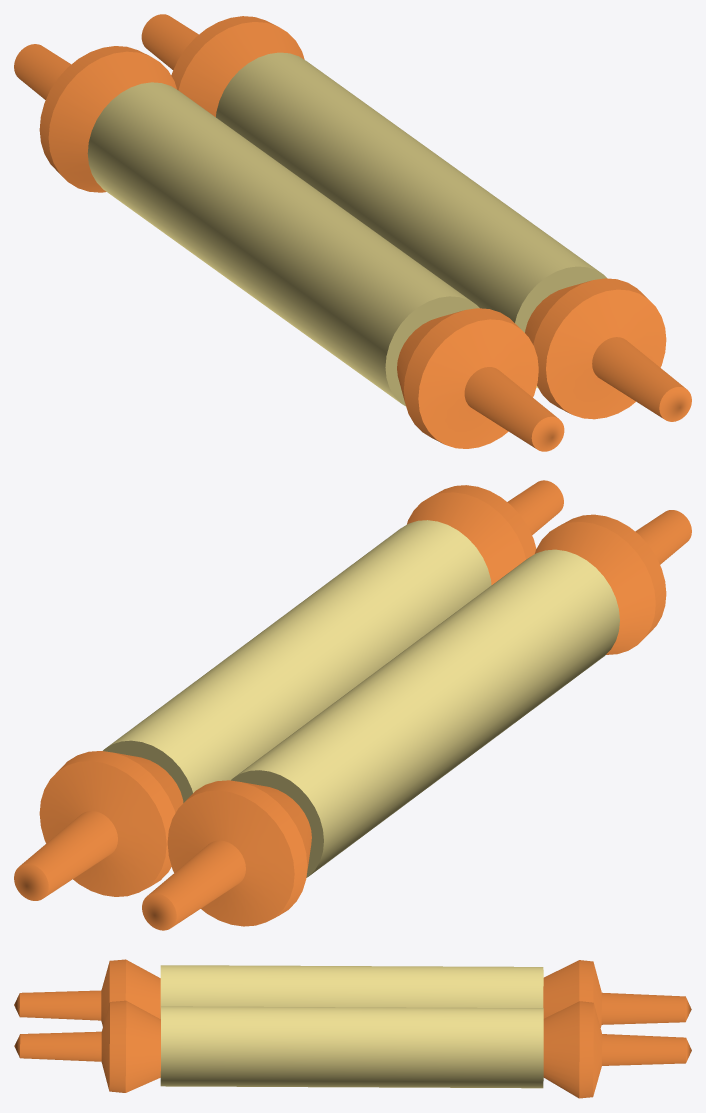
Rendered from loot_scroll.fbx.
3 renders of one model, top to bottom at view 1: azimuth 30°, elevation 25°; view 2: azimuth 150°, elevation 25°; view 3: azimuth 270°, elevation 25°, orthographic. The views are drawn at different scales.
Visible parts, largest first — view 1: Cylinder.002, Cylinder, Cylinder.003; view 2: Cylinder.002, Cylinder, Cylinder.003; view 3: Cylinder.002, Cylinder.003, Cylinder.
Boxes of the visible parts, box(x1,y1,x2,y2) form: Cylinder.002: box(87, 52, 607, 406); Cylinder: box(14, 44, 564, 451); Cylinder.003: box(141, 14, 691, 421); Cylinder.002: box(103, 520, 619, 877); Cylinder: box(142, 510, 691, 930); Cylinder.003: box(14, 480, 563, 900); Cylinder.002: box(160, 965, 543, 1088); Cylinder.003: box(14, 1000, 691, 1098); Cylinder: box(14, 959, 691, 1027).
Bounding box in the file's own units: 57.52 × 29.68 × 203.
